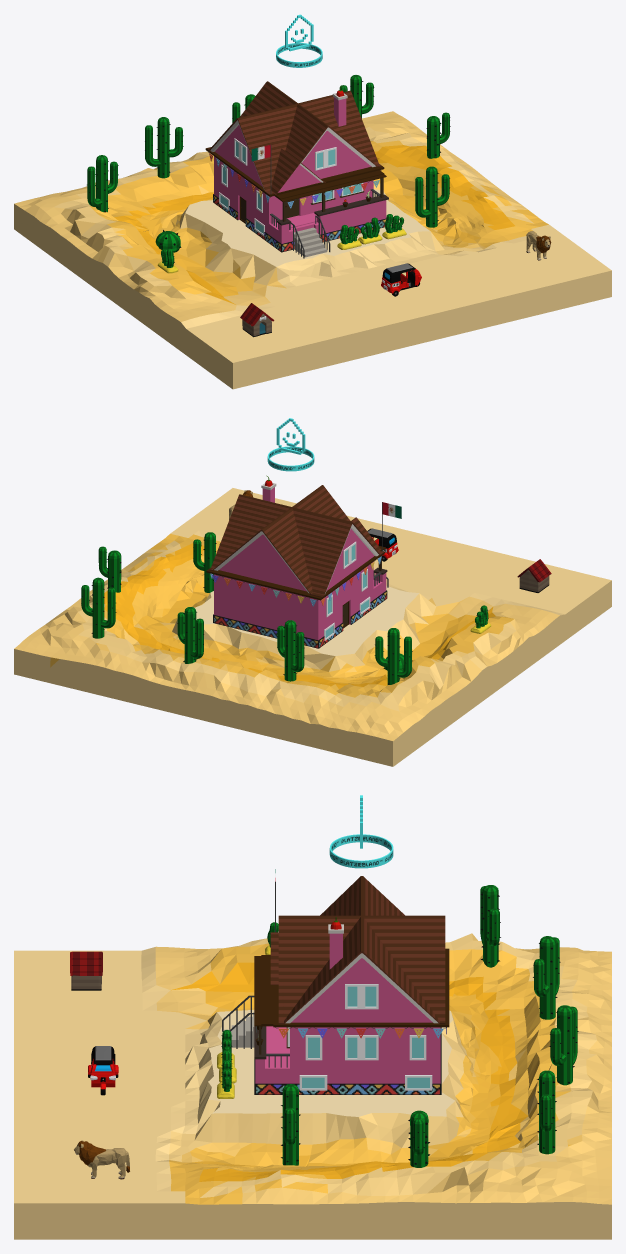
3 renders of one model, top to bottom at view 1: azimuth 30°, elevation 25°; view 2: azimuth 150°, elevation 25°; view 3: azimuth 270°, elevation 25°, orthographic. The views are drawn at different scales.
Parts seen in each view (by area): view 1: Cube.001, Cube.1005, Cylinder.044, Cylinder.037, Cylinder.045, TYPE_PREMIUM, VEHICLES_TUC_TUC, Cylinder.038, OBJRANDOM_DOGHOUSE, Cylinder.042; view 2: Cube.001, Cube.1005, Cylinder.042, Cylinder.045, Cylinder.044, Cylinder.043, TYPE_PREMIUM, Cylinder.037, Cylinder.038, OBJRANDOM_DOGHOUSE, VEHICLES_TUC_TUC; view 3: Cube.001, Cube.1005, Cylinder.044, Cylinder.043, Cylinder.045, Cylinder.042, Cylinder.037, OBJRANDOM_DOGHOUSE, TYPE_PREMIUM, ANIMAL_LEON, VEHICLES_TUC_TUC, Cylinder.038.
Boxes of the visible parts, <box> form: Cube.001: <box>14,111,611,389</box>; Cube.1005: <box>205,81,388,258</box>; Cylinder.044: <box>145,117,183,178</box>; Cylinder.037: <box>415,166,449,227</box>; Cylinder.045: <box>87,155,118,212</box>; TYPE_PREMIUM: <box>276,14,322,67</box>; VEHICLES_TUC_TUC: <box>381,263,421,296</box>; Cylinder.038: <box>426,112,450,158</box>; OBJRANDOM_DOGHOUSE: <box>240,303,274,337</box>; Cylinder.042: <box>339,75,374,118</box>; Cube.001: <box>14,488,611,766</box>; Cube.1005: <box>206,475,401,648</box>; Cylinder.042: <box>81,577,116,638</box>; Cylinder.045: <box>374,628,412,684</box>; Cylinder.044: <box>277,620,304,681</box>; Cylinder.043: <box>177,607,203,663</box>; TYPE_PREMIUM: <box>267,418,314,471</box>; Cylinder.037: <box>193,532,220,592</box>; Cylinder.038: <box>98,546,121,592</box>; OBJRANDOM_DOGHOUSE: <box>517,559,551,592</box>; VEHICLES_TUC_TUC: <box>367,528,398,561</box>; Cube.001: <box>14,933,611,1239</box>; Cube.1005: <box>222,869,449,1094</box>; Cylinder.044: <box>533,936,560,1019</box>; Cylinder.043: <box>549,1005,578,1085</box>; Cylinder.045: <box>480,885,500,967</box>; Cylinder.042: <box>537,1070,556,1154</box>; Cylinder.037: <box>281,1084,300,1165</box>; OBJRANDOM_DOGHOUSE: <box>70,951,102,990</box>; TYPE_PREMIUM: <box>329,795,393,868</box>; ANIMAL_LEON: <box>74,1140,129,1179</box>; VEHICLES_TUC_TUC: <box>88,1046,118,1095</box>; Cylinder.038: <box>408,1110,429,1167</box>.
Size of the model in its own units: 4002 by 2410 by 4001.
74 materials, 5 textured.
